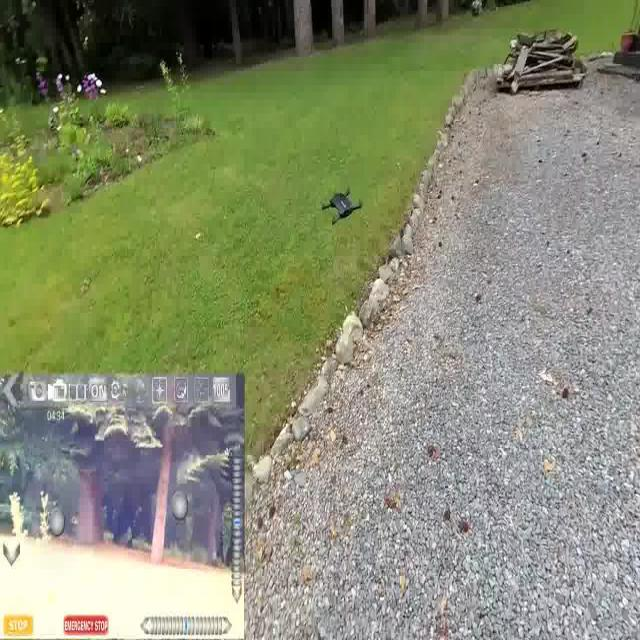drone: (317, 182, 366, 230)
